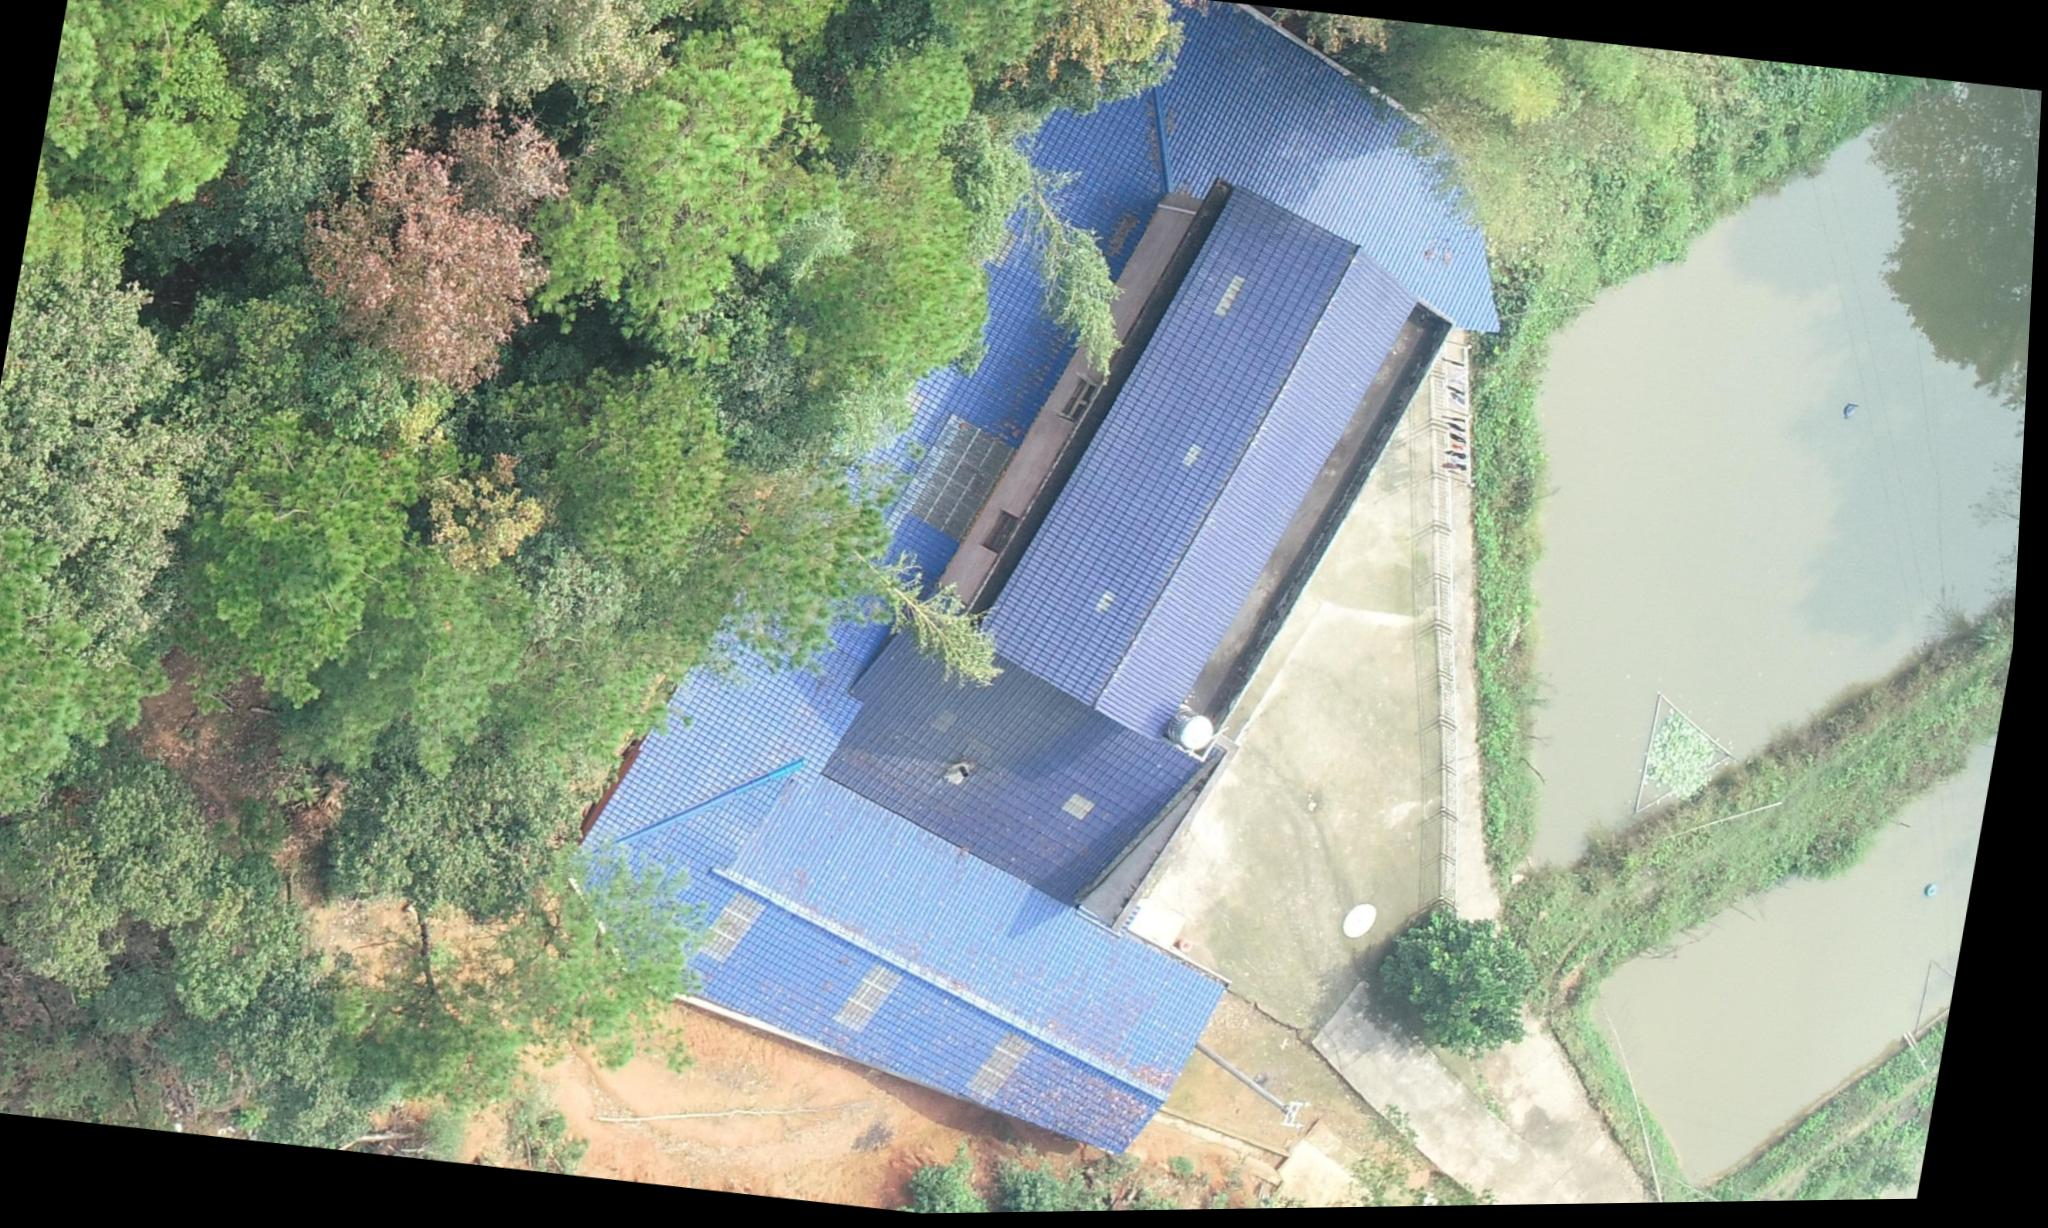heavy: (279, 85, 585, 425)
